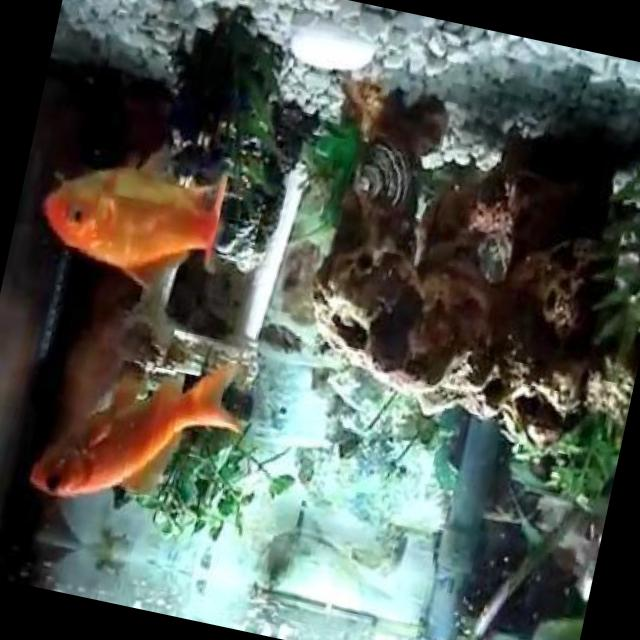GoldFish: (28, 329, 254, 529), (28, 121, 235, 306)
